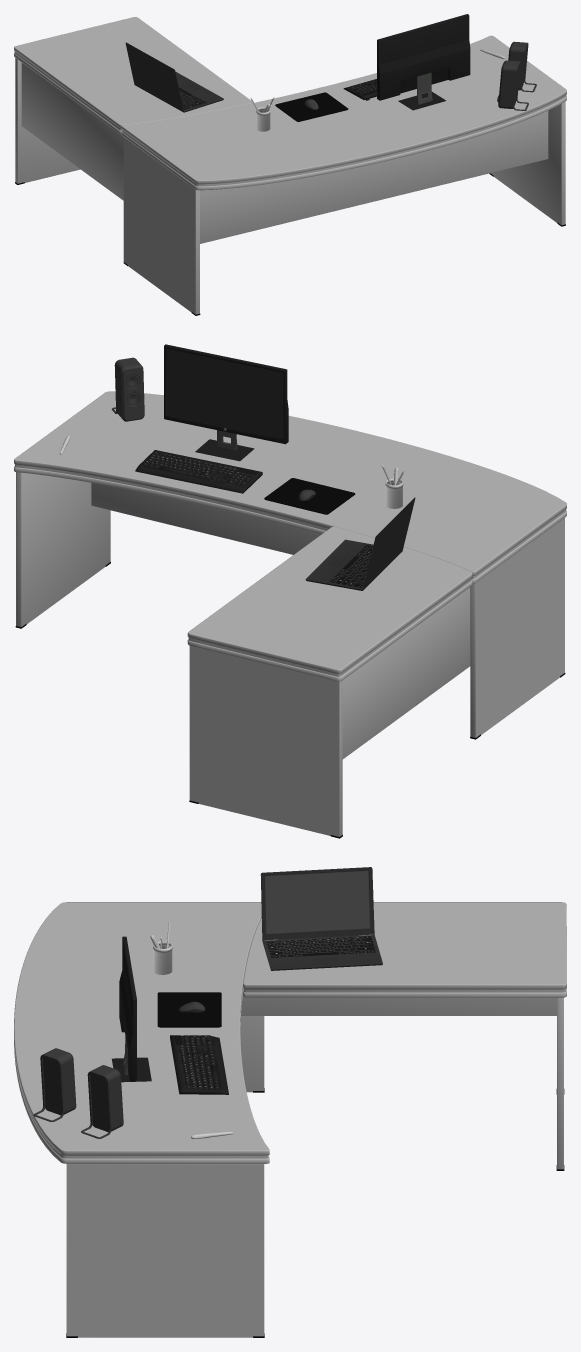
The model's file is bureauStatic.fbx.
3 views of the same model, one above another, from view 1: azimuth 30°, elevation 25°; view 2: azimuth 150°, elevation 25°; view 3: azimuth 270°, elevation 25° (orthographic). The views are drawn at different scales.
Visible parts, largest first — view 1: ExecutiveDesk, SM_Monitor, SM_Laptop, SM_Mousepad, PCSpeaker01Right, PCSpeaker01Left, SM_Keyboard; view 2: ExecutiveDesk, SM_Monitor, SM_Laptop, SM_Keyboard, SM_Mousepad, PCSpeaker01Left; view 3: ExecutiveDesk, SM_Laptop, SM_Keyboard, SM_Monitor, PCSpeaker01Right, PCSpeaker01Left, SM_Mousepad, SM_PencilPot.
Part boxes in pixels (left/top/right/bottom): ExecutiveDesk: left=14, top=17, right=566, bottom=315; SM_Monitor: left=377, top=14, right=470, bottom=110; SM_Laptop: left=125, top=42, right=223, bottom=112; SM_Mousepad: left=275, top=92, right=348, bottom=121; PCSpeaker01Right: left=497, top=60, right=528, bottom=110; PCSpeaker01Left: left=508, top=41, right=536, bottom=92; SM_Keyboard: left=343, top=79, right=376, bottom=100; ExecutiveDesk: left=14, top=391, right=566, bottom=838; SM_Monitor: left=164, top=344, right=288, bottom=461; SM_Laptop: left=305, top=497, right=415, bottom=590; SM_Keyboard: left=135, top=450, right=262, bottom=493; SM_Mousepad: left=264, top=478, right=355, bottom=514; PCSpeaker01Left: left=111, top=357, right=144, bottom=421; ExecutiveDesk: left=14, top=902, right=566, bottom=1337; SM_Laptop: left=260, top=867, right=382, bottom=970; SM_Keyboard: left=170, top=1035, right=228, bottom=1094; SM_Monitor: left=112, top=936, right=151, bottom=1082; PCSpeaker01Right: left=33, top=1048, right=76, bottom=1121; PCSpeaker01Left: left=81, top=1065, right=123, bottom=1138; SM_Mousepad: left=157, top=992, right=221, bottom=1027; SM_PencilPot: left=153, top=941, right=172, bottom=974.
Size of what is drawn, in the model's own units: 200 by 188 by 108.
